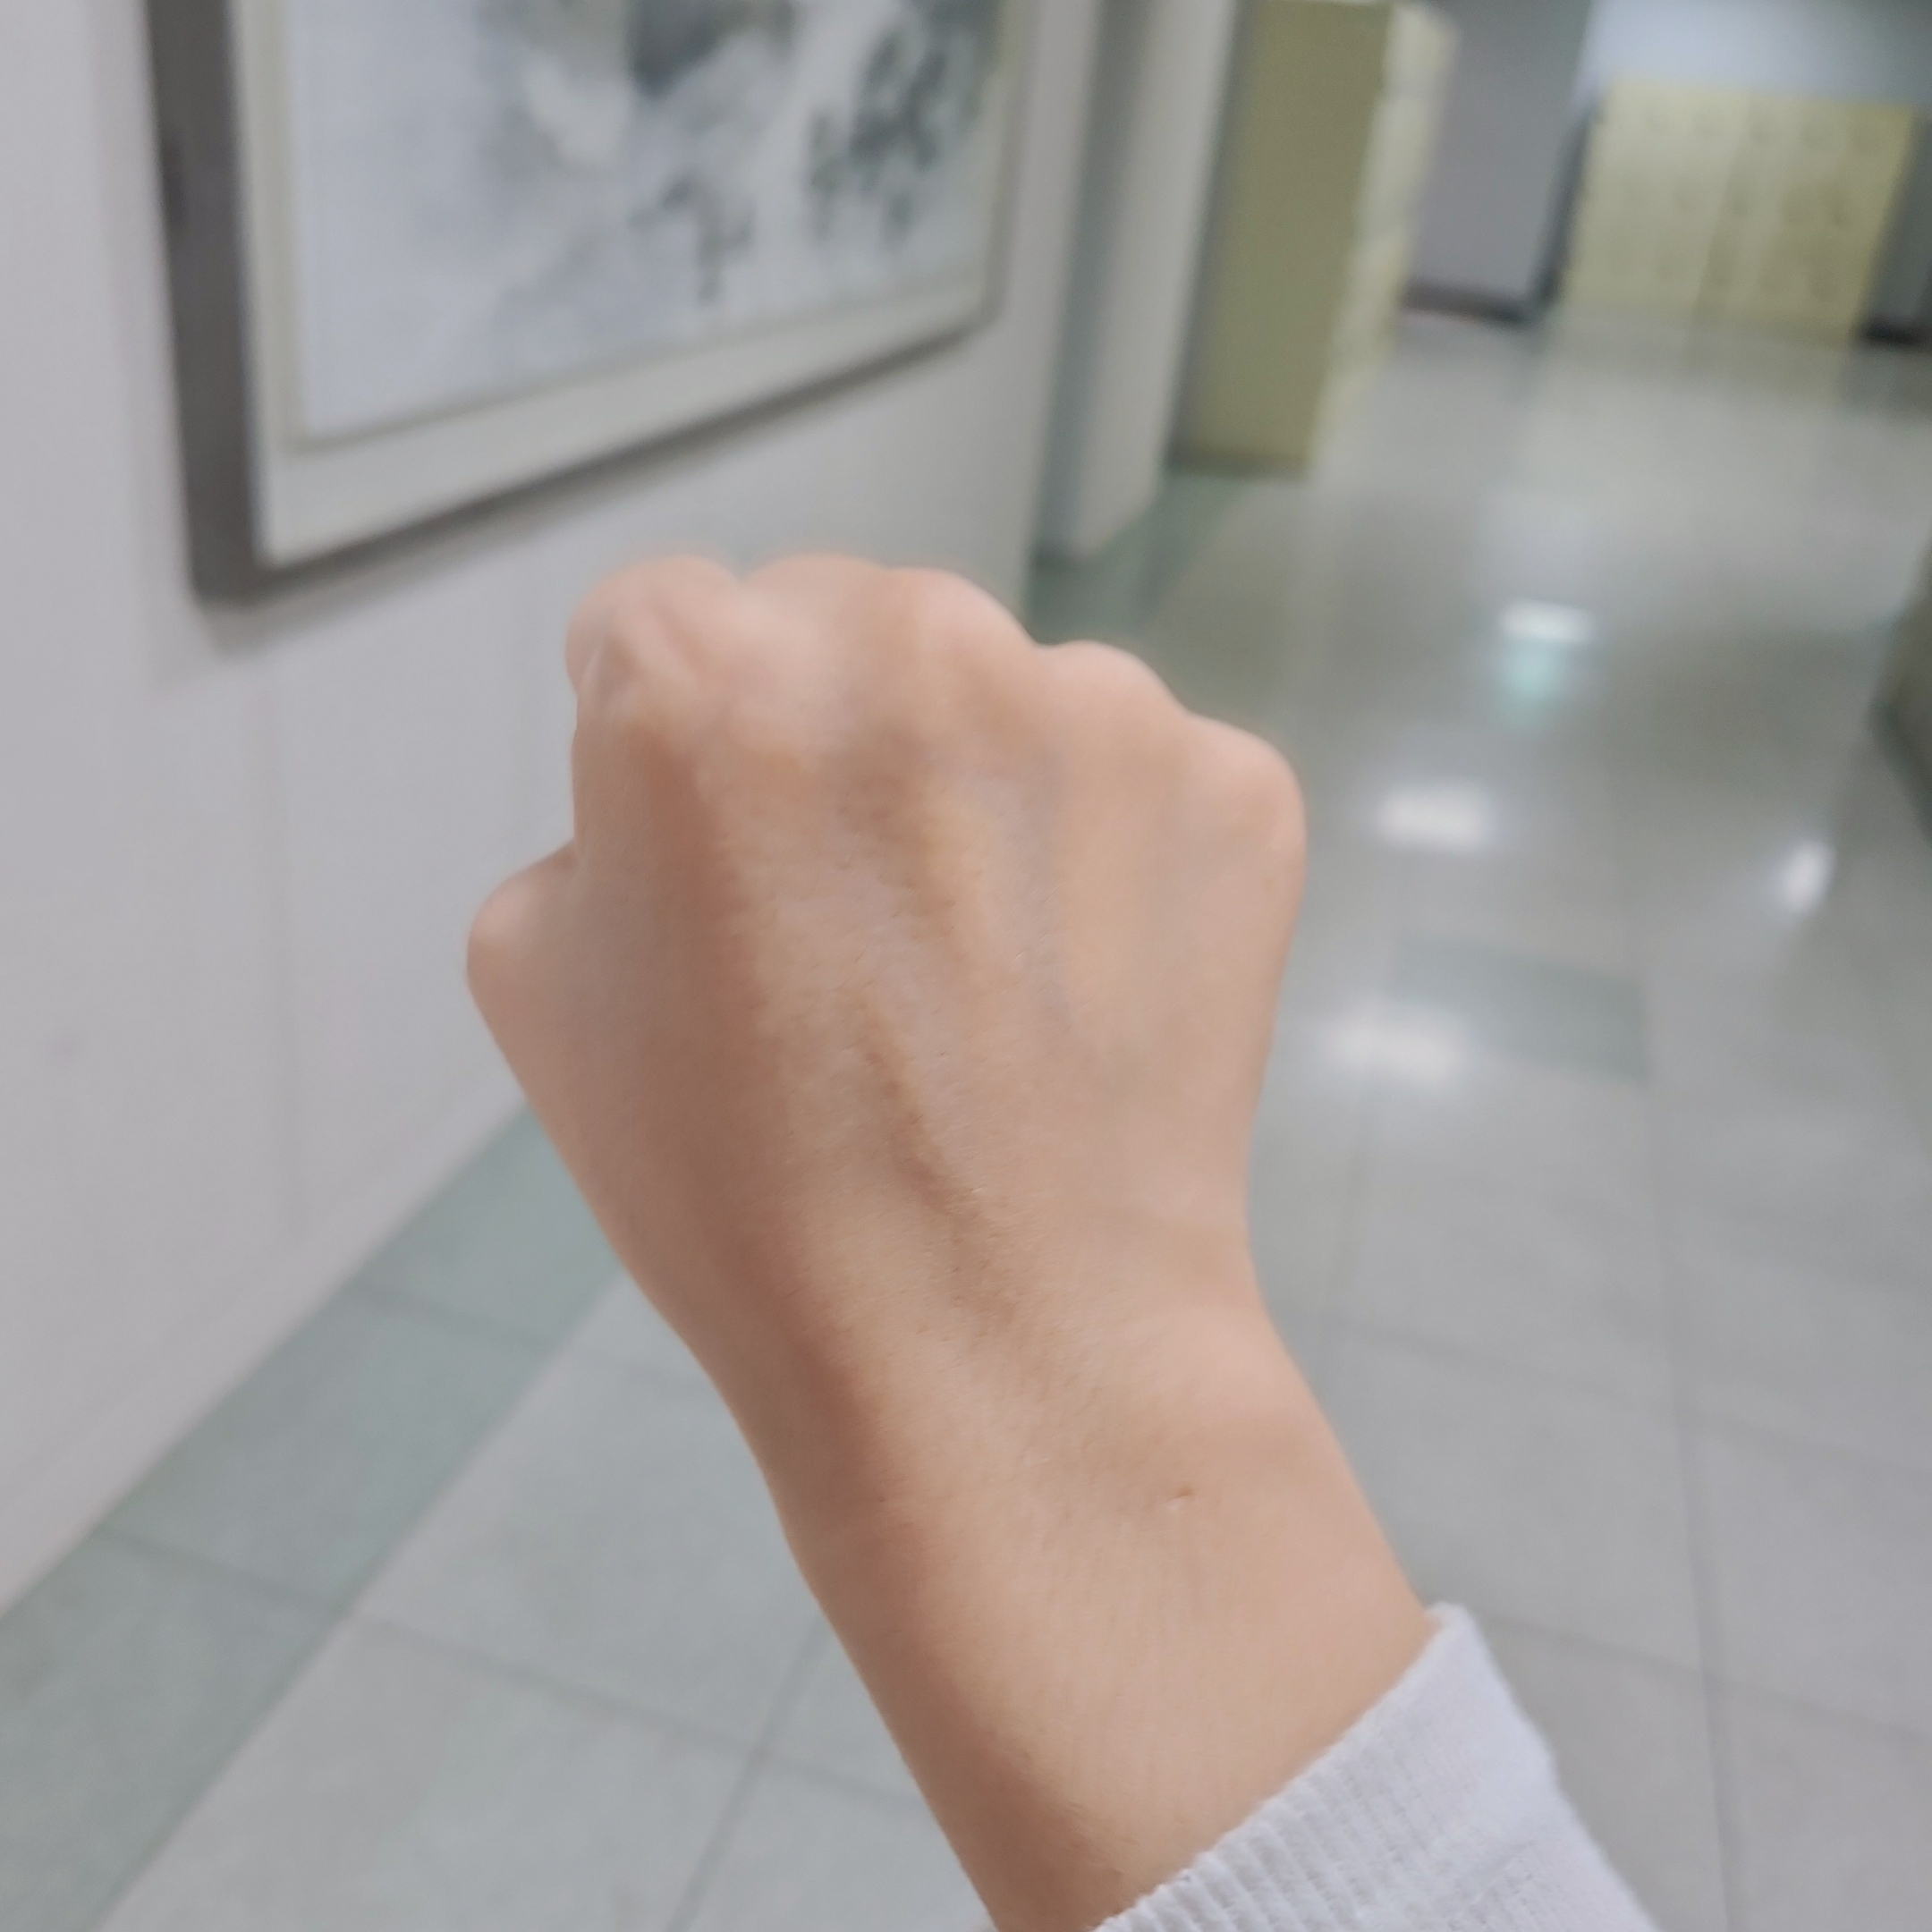smile: (462, 543, 1316, 1417)
